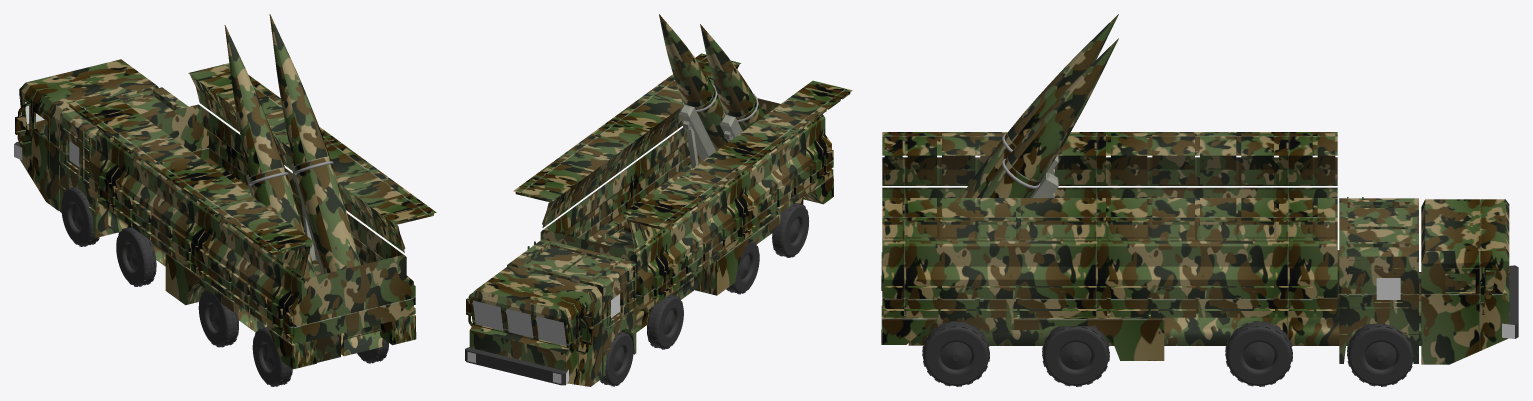
The model's file is l_iskander.glb.
3 renders of one model, left to right at view 1: azimuth 30°, elevation 25°; view 2: azimuth 150°, elevation 25°; view 3: azimuth 270°, elevation 25°, orthographic. The views are drawn at different scales.
Parts seen in each view (by area): view 1: body|Mat.1, tbm|Mat.1, body|Mat.5, tbm2|Mat.1, body|material; view 2: body|Mat.1, body|Mat.5, tbm|Mat.1, tbm2|Mat.1, body|material_4, body|material; view 3: body|Mat.1, body|Mat.5, tbm|Mat.1, tbm2|Mat.1, body|material, body|material_4.
Part boxes in pixels (x1,y1,x2,y2): body|Mat.1: (15,59,436,369); tbm|Mat.1: (269,14,360,273); body|Mat.5: (14,141,388,386); tbm2|Mat.1: (224,25,315,278); body|material: (246,163,324,274); body|Mat.1: (466,53,852,386); body|Mat.5: (465,202,809,386); tbm|Mat.1: (659,14,727,150); tbm2|Mat.1: (700,24,764,131); body|material_4: (467,294,619,383); body|material: (678,104,742,168); body|Mat.1: (881,132,1509,364); body|Mat.5: (922,265,1518,386); tbm|Mat.1: (946,38,1118,241); tbm2|Mat.1: (932,14,1118,241); body|material: (999,154,1058,241); body|material_4: (1376,278,1400,299).
Size of the model in its own units: 4.33 by 7.49 by 13.02.
8 materials, 4 textured.
